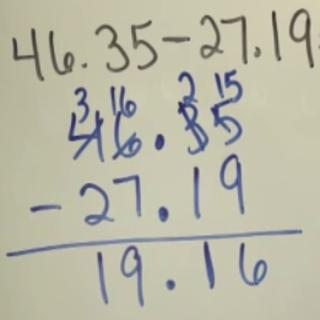.: (156, 203, 172, 224), (154, 132, 166, 150), (251, 43, 264, 59), (164, 275, 177, 290), (79, 59, 90, 70)
1: (94, 249, 111, 305), (201, 238, 219, 289), (189, 163, 204, 220), (268, 7, 283, 63)
2: (79, 181, 117, 225), (197, 13, 224, 62)
3: (92, 23, 129, 72)
4: (9, 27, 47, 83)
5: (129, 18, 161, 71)
6: (46, 26, 76, 77), (238, 240, 268, 288)
7: (219, 15, 252, 66), (111, 172, 144, 217)
9: (218, 152, 248, 216), (288, 6, 316, 68), (119, 245, 147, 307)
